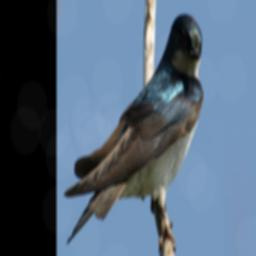Swallow: (62, 14, 203, 256)
